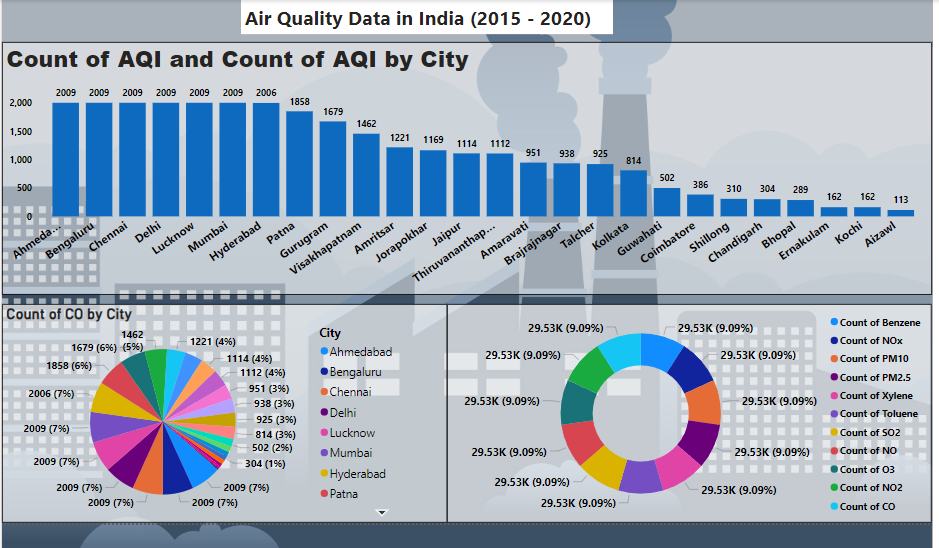

What the dashboard file says about the page in this screenshot:
{"tool":"powerbi","page":{"name":"Page 1","canvas":[1280,720],"ordinal":0},"visuals":[{"type":"textbox","box":[328.9,0,512,46.8],"z":0},{"type":"clusteredColumnChart","fields":{"Category":["city_day.City"],"Y":["CountNonNull(city_day.AQI)"]},"box":[0,57.3,1280,348],"z":1000},{"type":"pieChart","fields":{"Category":["city_day.City"],"Y":["CountNonNull(city_day.CO)"]},"box":[0,418.9,612.7,301.4],"z":2000},{"type":"donutChart","fields":{"Y":["CountNonNull(city_day.Benzene)","CountNonNull(city_day.NOx)","CountNonNull(city_day.PM10)","CountNonNull(city_day.PM2.5)","CountNonNull(city_day.Xylene)","CountNonNull(city_day.Toluene)","CountNonNull(city_day.SO2)","CountNonNull(city_day.NO)","CountNonNull(city_day.O3)","CountNonNull(city_day.NO2)","CountNonNull(city_day.CO)"]},"box":[612.7,418.9,667.3,301.4],"z":3000}]}

Visuals, with their boxes in screenshot pixels (x1, y1, x2, y2):
textbox: rect(240, 0, 611, 34)
clusteredColumnChart - city_day.City x CountNonNull(city_day.AQI): rect(2, 41, 928, 293)
pieChart - city_day.City x CountNonNull(city_day.CO): rect(2, 303, 446, 521)
donutChart - CountNonNull(city_day.Benzene) x CountNonNull(city_day.NOx): rect(446, 303, 928, 521)
